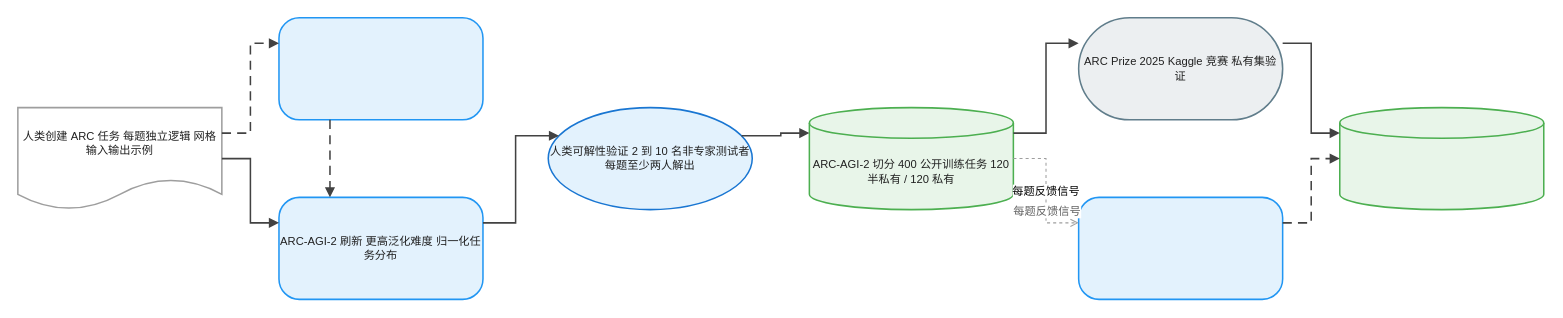
This 1563x318 diagram has some shape labels left out. Each missing label, with the centre of its shape:
"Core Knowledge 范围 物体性、拓扑 基础整数算术" belongs at [380,68].
"Refinement-loop 方法 探索候选程序 每题验证并迭代" belongs at [1180,248].
"技术报告 半私有和私有集分数 污染分析与 ARC-AGI-3 预告" belongs at [1441,158].
